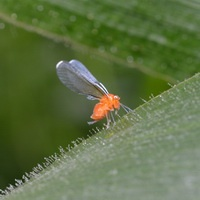insect: (56, 60, 131, 127)
